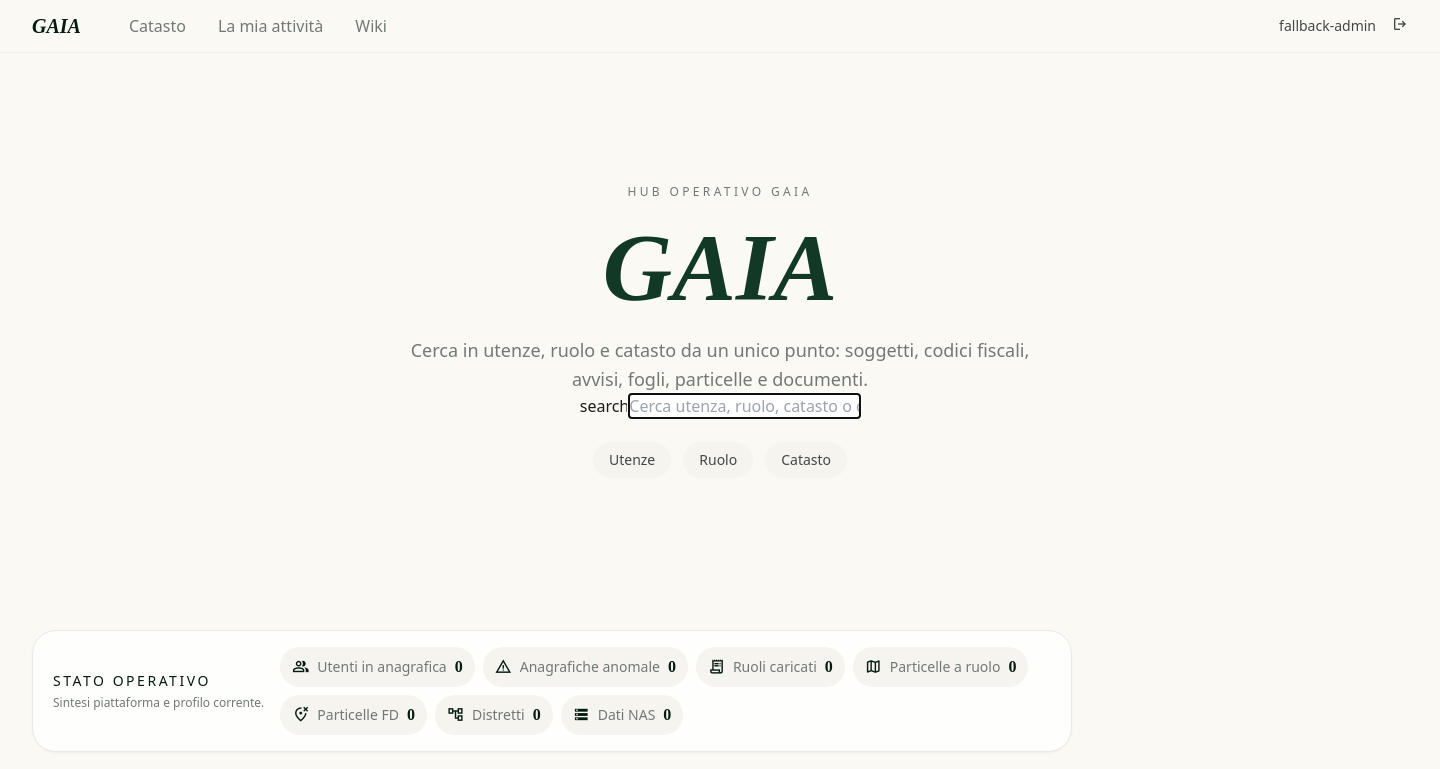
it: HomePage presence widget › shows operational search errors while keeping shortcut fallback
Expected: the text "Hub operativo GAIA" is shown, [627,183,812,200]
In the field with placeholder "Cerca utenza, ruolo, catasto o coordinate…": coordinates (745, 406) [629,394,860,418], type "catasto"
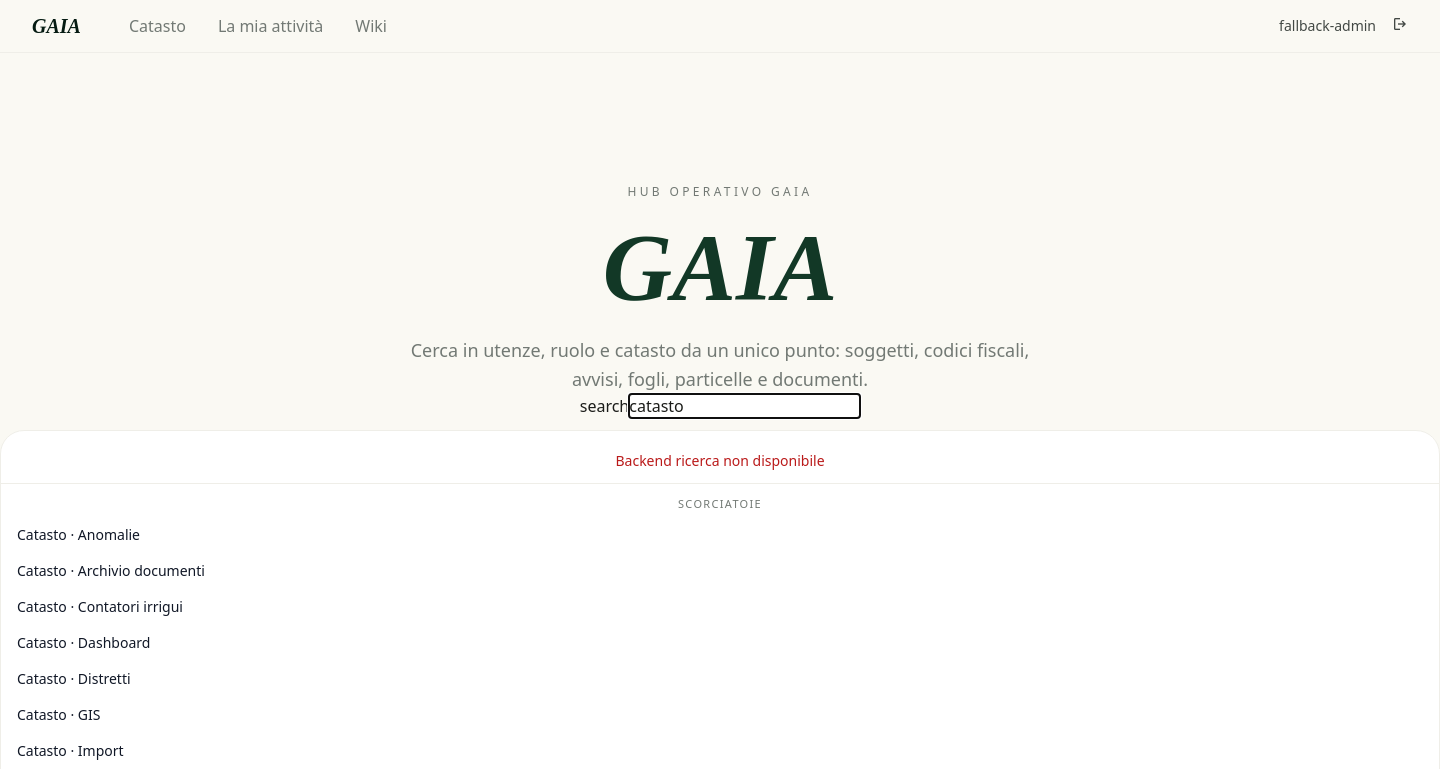
Expected: the text "Backend ricerca non disponibile" is shown, [616,451,825,470]
Expected: the button "Catasto · Dashboard" is shown, [1,625,1439,661]
